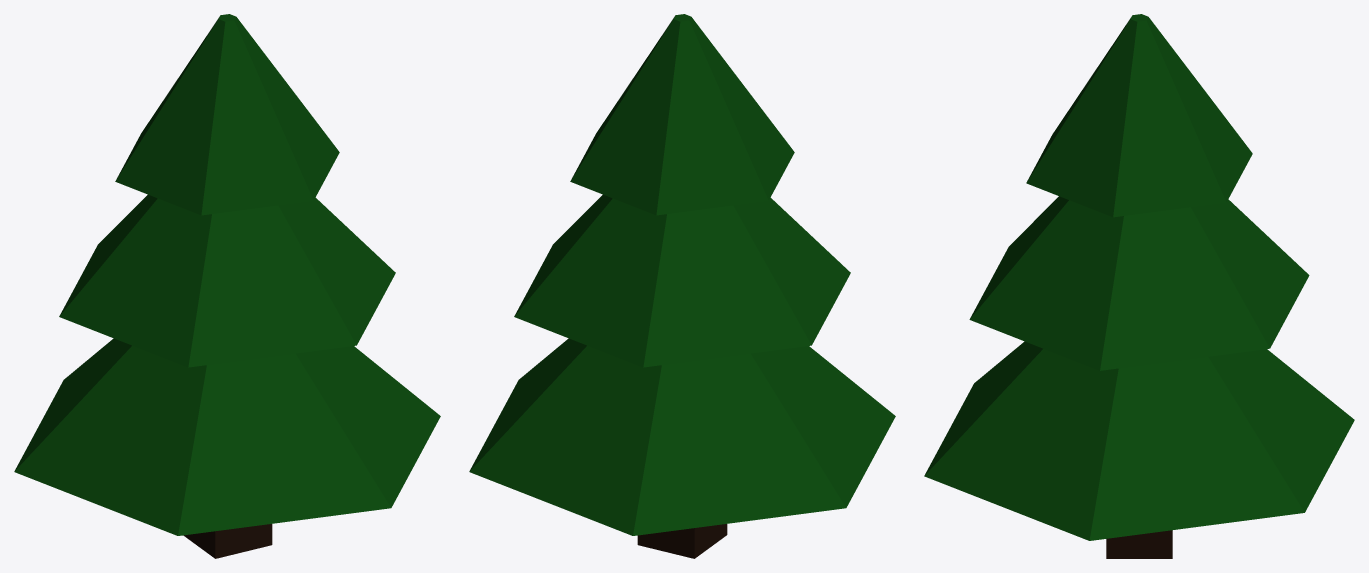
The model's file is pine.glb.
The picture shows the model from 3 angles, left to right: view 1: azimuth 30°, elevation 25°; view 2: azimuth 150°, elevation 25°; view 3: azimuth 270°, elevation 25°; orthographic projection.
Visible parts, largest first — view 1: pine; view 2: pine; view 3: pine.
Part boxes in pixels (x1=…): pine: x1=14, y1=14, x2=440, y2=558; pine: x1=469, y1=14, x2=895, y2=558; pine: x1=924, y1=14, x2=1354, y2=558.
Bounding box in the file's own units: 1.85 × 2.45 × 1.82.
